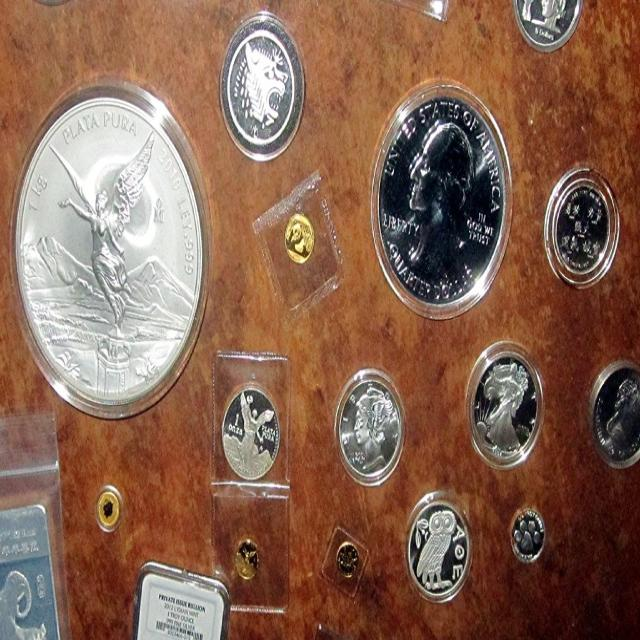Coin: (17, 97, 205, 404), (218, 11, 305, 164), (339, 378, 399, 470), (480, 358, 533, 459), (221, 393, 282, 479), (410, 499, 464, 586), (562, 185, 612, 272), (599, 372, 640, 461), (516, 0, 582, 52), (514, 516, 545, 557), (238, 535, 261, 580)
